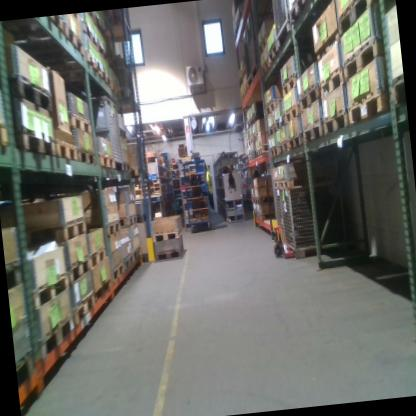pallet: (344, 80, 397, 135), (337, 29, 391, 79), (3, 68, 56, 117), (15, 215, 90, 249), (35, 311, 77, 367), (334, 0, 388, 35), (12, 122, 57, 163), (26, 272, 69, 311), (322, 104, 352, 145), (316, 64, 347, 98), (63, 19, 84, 67), (72, 290, 96, 329), (387, 65, 406, 112), (296, 80, 321, 113), (277, 72, 305, 101), (67, 253, 95, 282), (271, 174, 320, 190), (84, 47, 104, 82), (81, 15, 101, 49), (68, 109, 95, 134), (89, 277, 112, 306), (54, 137, 77, 165), (301, 121, 326, 146), (40, 14, 64, 38), (96, 217, 121, 240), (148, 225, 183, 241), (95, 150, 116, 176), (287, 0, 309, 24), (153, 244, 184, 260), (109, 261, 127, 288), (288, 130, 308, 151), (245, 61, 261, 87), (120, 252, 137, 276), (74, 146, 93, 167), (0, 113, 10, 149), (257, 33, 276, 51), (277, 132, 291, 156), (118, 214, 139, 229), (89, 246, 105, 265), (285, 102, 300, 122), (101, 62, 112, 89), (267, 143, 280, 162), (263, 100, 278, 116), (267, 47, 277, 71), (256, 144, 273, 158), (256, 211, 277, 221), (261, 58, 271, 76), (265, 123, 277, 137), (253, 130, 268, 140), (254, 196, 273, 203), (122, 162, 133, 174), (250, 115, 258, 124), (249, 136, 254, 143), (251, 151, 256, 158), (247, 154, 252, 161), (250, 198, 255, 203)
pallet_truck: (260, 165, 297, 261)
stillage: (278, 178, 351, 261), (90, 92, 125, 174), (271, 0, 293, 51), (272, 185, 285, 248), (115, 63, 136, 100)
